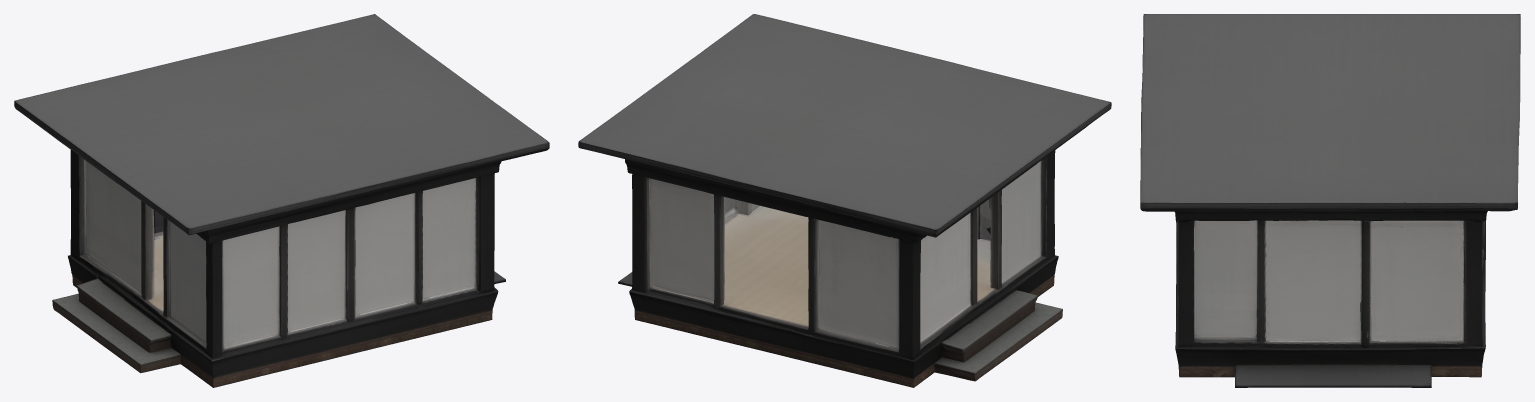
File: 3d4 MODERN.glb
3 renders of one model, left to right at view 1: azimuth 30°, elevation 25°; view 2: azimuth 150°, elevation 25°; view 3: azimuth 270°, elevation 25°, orthographic. The views are drawn at different scales.
Parts seen in each view (by area): view 1: world; view 2: world; view 3: world.
Part boxes in pixels (left/top/right/bottom): world: left=14, top=14, right=549, bottom=387; world: left=578, top=14, right=1111, bottom=387; world: left=1140, top=14, right=1520, bottom=387.
Bounding box in the file's own units: 0.9995 × 0.4817 × 0.8488.
1 material, 1 textured.
